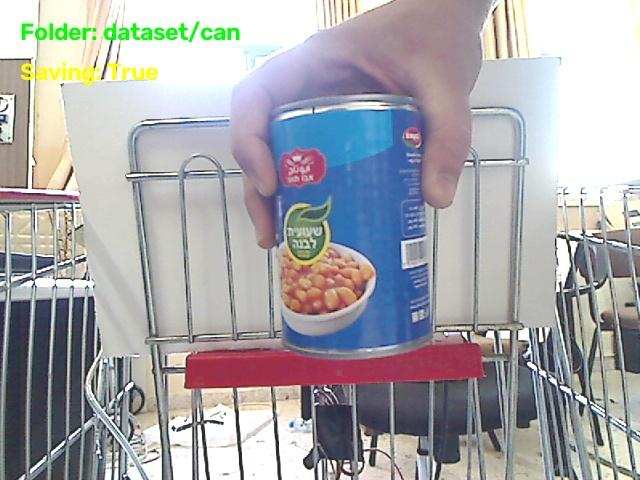can: (271, 94, 431, 357)
